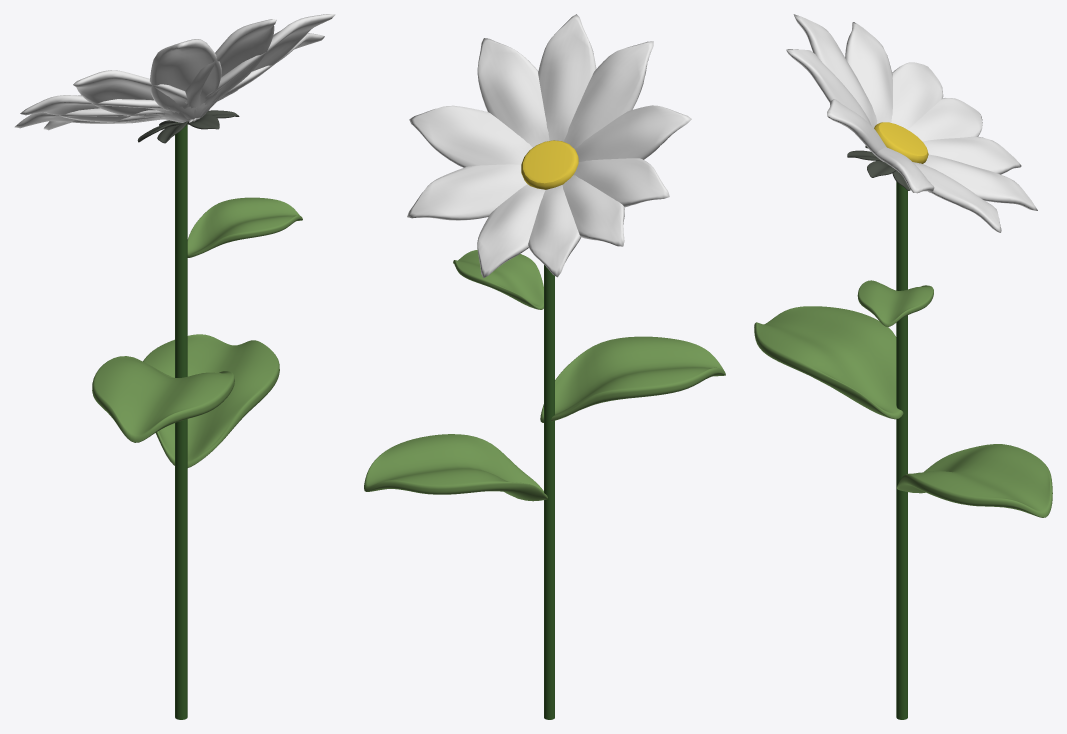
The model's file is flower4.fbx.
The picture shows the model from 3 angles, left to right: view 1: azimuth 30°, elevation 25°; view 2: azimuth 150°, elevation 25°; view 3: azimuth 270°, elevation 25°; orthographic projection. The views are drawn at different scales.
Visible parts, largest first — view 1: flower13_group35_leaf14, pCylinder15; view 2: flower13_group35_leaf14, pCylinder15; view 3: flower13_group35_leaf14, pCylinder15.
Boxes of the visible parts, x1=… form: flower13_group35_leaf14: x1=14, y1=14, x2=335, y2=467; pCylinder15: x1=175, y1=122, x2=187, y2=719; flower13_group35_leaf14: x1=364, y1=14, x2=725, y2=501; pCylinder15: x1=544, y1=265, x2=554, y2=719; flower13_group35_leaf14: x1=754, y1=14, x2=1052, y2=517; pCylinder15: x1=896, y1=182, x2=907, y2=719.
Size of the model in its own units: 11.72 by 27.55 by 10.93.
